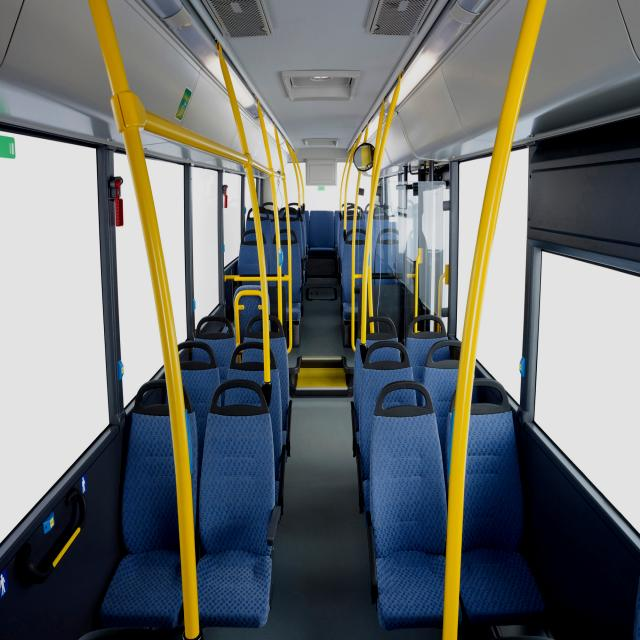asiento-libre: (448, 378, 548, 628), (99, 379, 198, 629), (368, 380, 460, 630), (197, 380, 283, 628), (353, 340, 415, 500), (226, 341, 283, 499), (422, 340, 466, 496), (172, 340, 220, 476), (243, 316, 290, 448), (192, 316, 238, 407), (353, 316, 399, 401), (406, 316, 449, 402), (267, 228, 303, 320), (341, 229, 368, 322), (232, 284, 272, 346), (273, 208, 306, 268), (245, 208, 277, 264), (238, 228, 269, 284), (370, 229, 401, 285), (338, 208, 366, 262), (371, 208, 396, 262), (308, 211, 335, 256)
